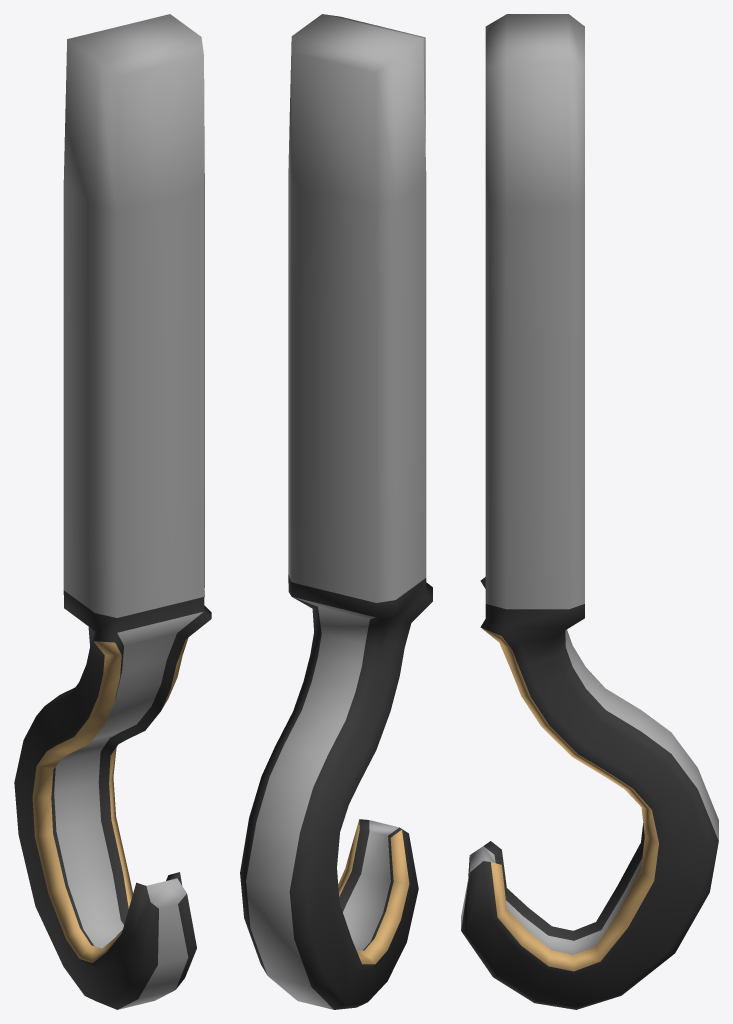
The model's file is dockship-hook.fbx.
3 renders of one model, left to right at view 1: azimuth 30°, elevation 25°; view 2: azimuth 150°, elevation 25°; view 3: azimuth 270°, elevation 25°, orthographic. The views are drawn at different scales.
Visible parts, largest first — view 1: DockHook; view 2: DockHook; view 3: DockHook.
Boxes of the visible parts, x1,y1,x2,y2 form: DockHook: (14, 14, 211, 1009); DockHook: (240, 14, 432, 1009); DockHook: (461, 14, 718, 1009).
Bounding box in the file's own units: 94.39 × 742 × 180.
